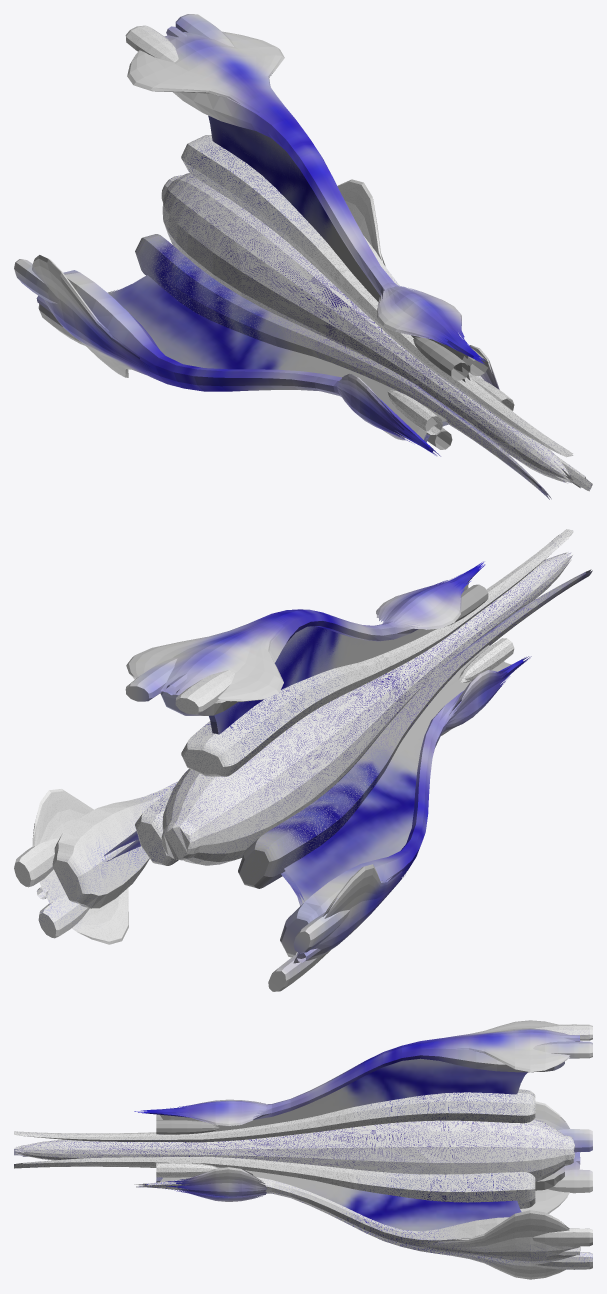
The model's file is Nial.fbx.
3 views of the same model, one above another, from view 1: azimuth 30°, elevation 25°; view 2: azimuth 150°, elevation 25°; view 3: azimuth 270°, elevation 25° (orthographic). The views are drawn at different scales.
Parts seen in each view (by area): view 1: RAD_MESH0, RAD_MESH3, RAD_MESH1, RAD_MESH2; view 2: RAD_MESH0, RAD_MESH3, RAD_MESH1, RAD_MESH2; view 3: RAD_MESH0, RAD_MESH3, RAD_MESH1, RAD_MESH2.
Part boxes in pixels (x1,y1,x2,y2): RAD_MESH0: (125, 25, 592, 491); RAD_MESH3: (14, 14, 499, 456); RAD_MESH1: (107, 115, 591, 499); RAD_MESH2: (135, 174, 572, 497); RAD_MESH0: (14, 529, 573, 944); RAD_MESH3: (15, 561, 531, 991); RAD_MESH1: (103, 530, 592, 905); RAD_MESH2: (145, 553, 591, 887); RAD_MESH0: (14, 1024, 592, 1279); RAD_MESH3: (134, 1020, 592, 1278); RAD_MESH1: (14, 1058, 535, 1231); RAD_MESH2: (14, 1120, 574, 1180).
Size of the model in its own units: 61.07 by 56.28 by 136.
Materials: 3 (3 with a texture image).
